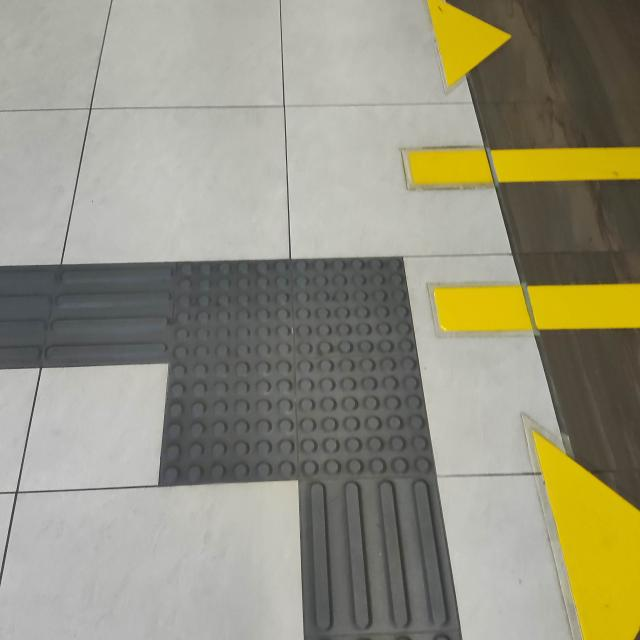kiri: (0, 200, 508, 524)
